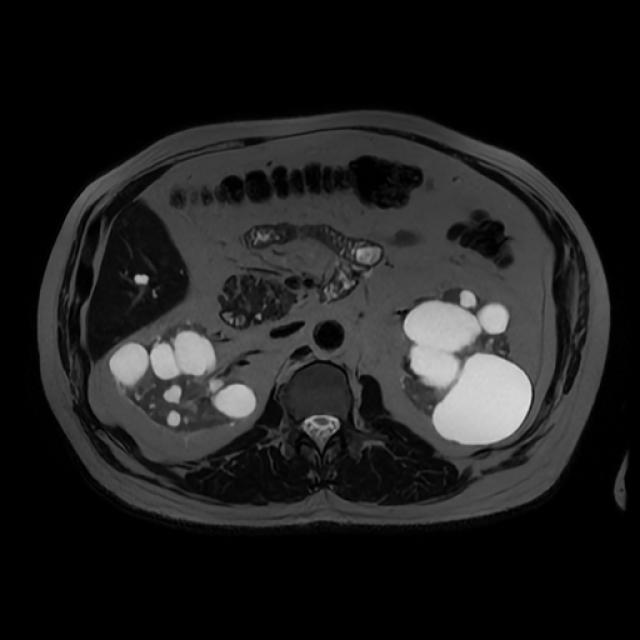sag: (108, 321, 259, 433)
sol: (401, 287, 534, 448)
